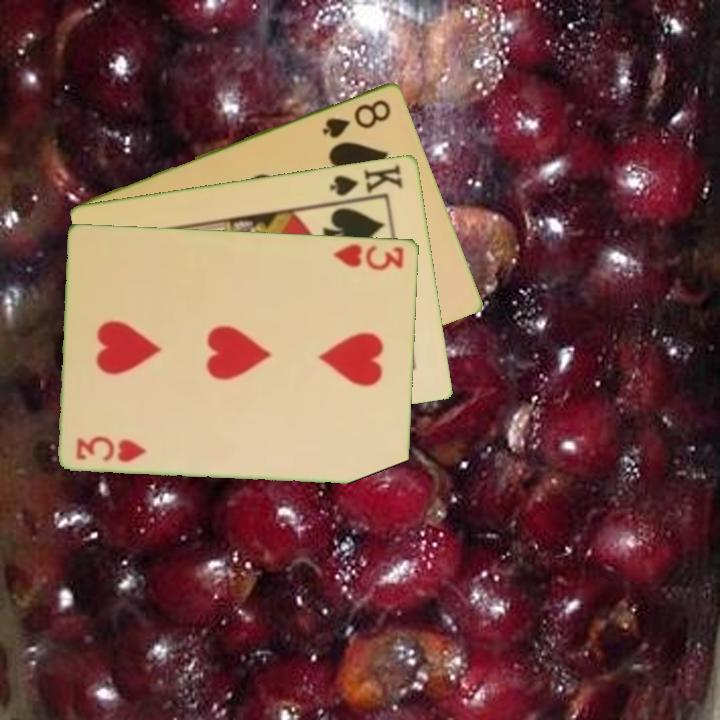3h: (330, 240, 407, 273), (73, 433, 150, 465)
8s: (319, 95, 395, 141)
Ks: (326, 160, 406, 204)
